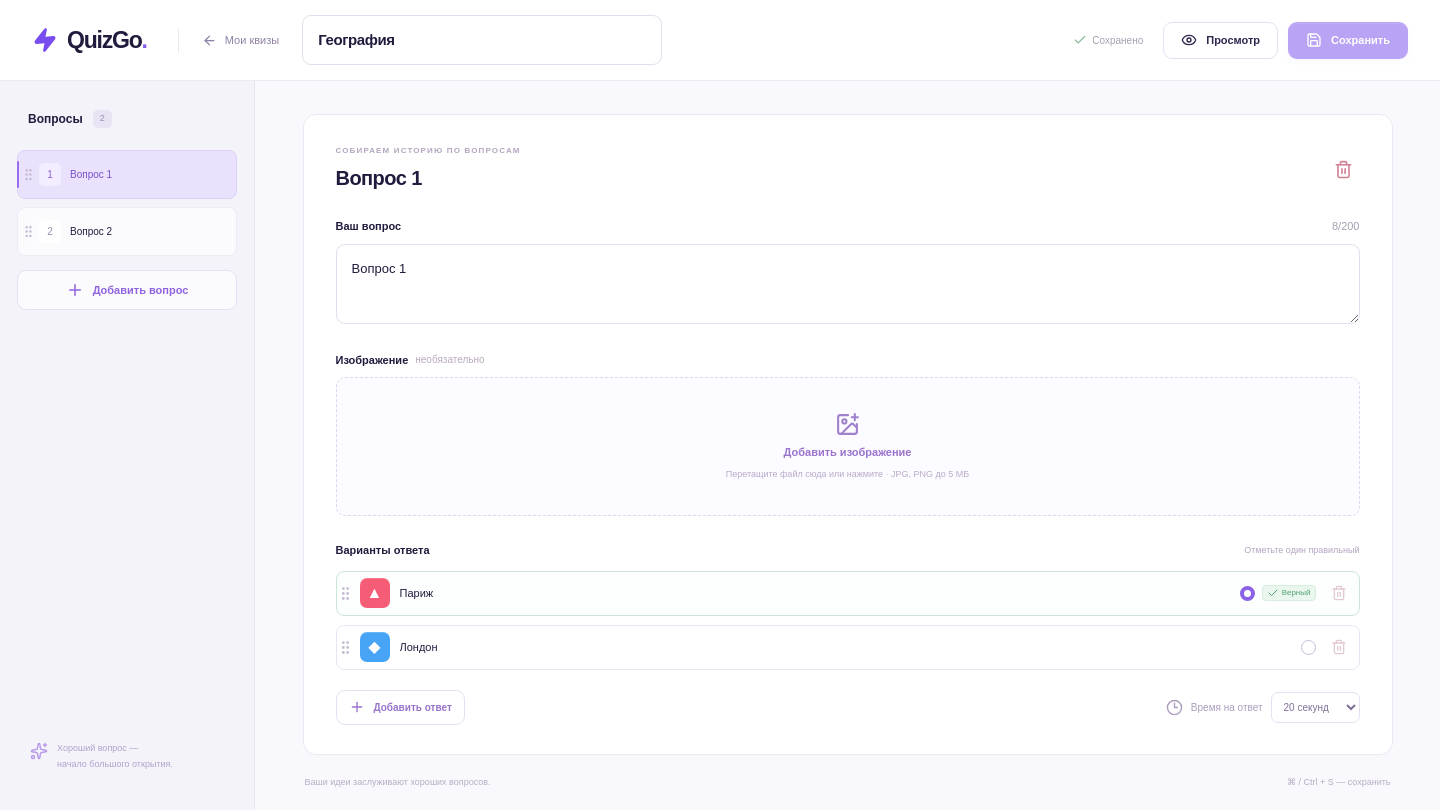
Test: editor workflow › saves edited content and correct answer, then clears the local draft
Click the radio button named "Ответ 2 — правильный". click: click(1308, 647)
box: [1300,640,1316,654]
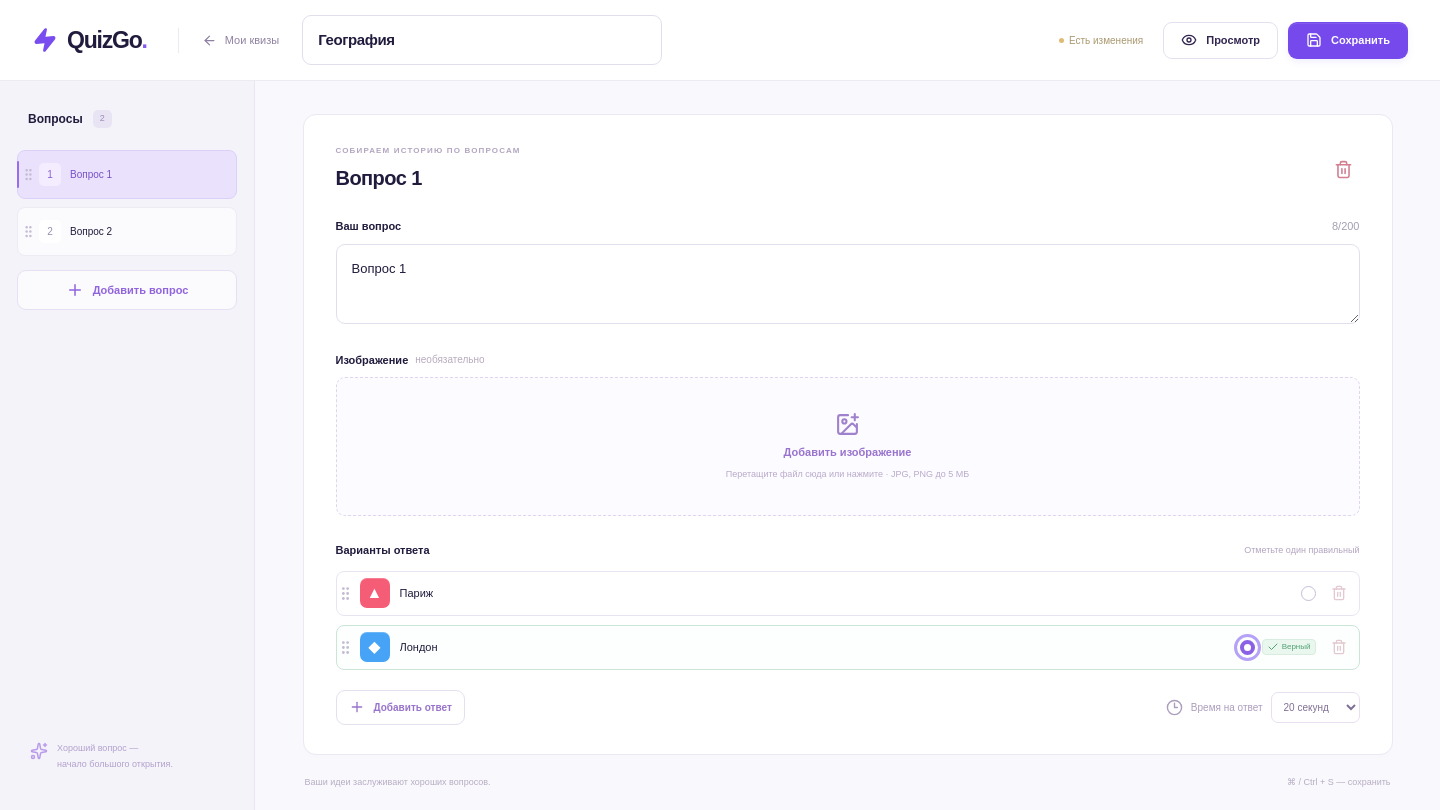
Click the button "Сохранить". click: click(1348, 40)
box: [1288,22,1408,58]
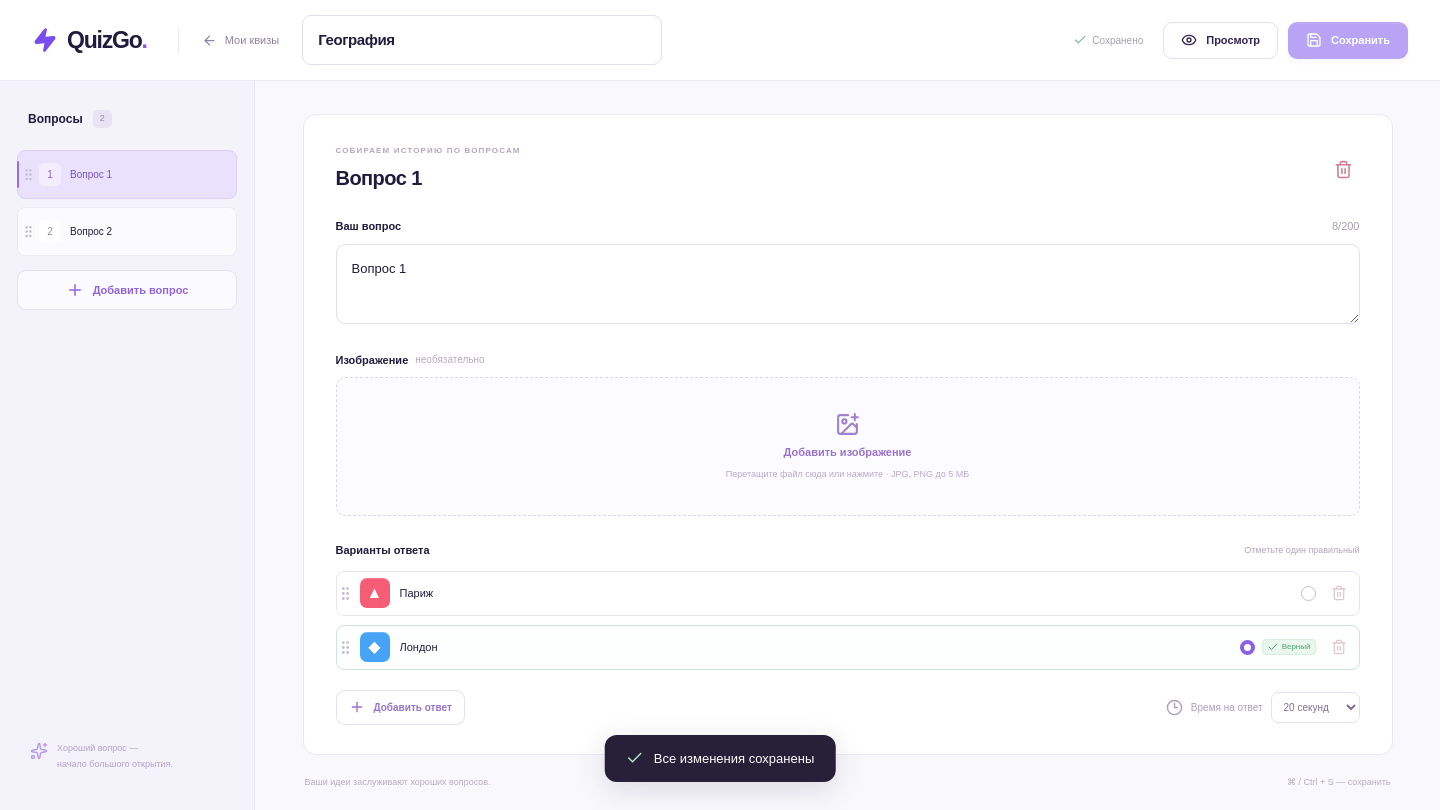
Result: the radio button with aria-label "Ответ 2 — правильный" is checked at [1240,640,1255,654]
Result: the text "Все изменения сохранены" is shown at [605,734,835,782]
